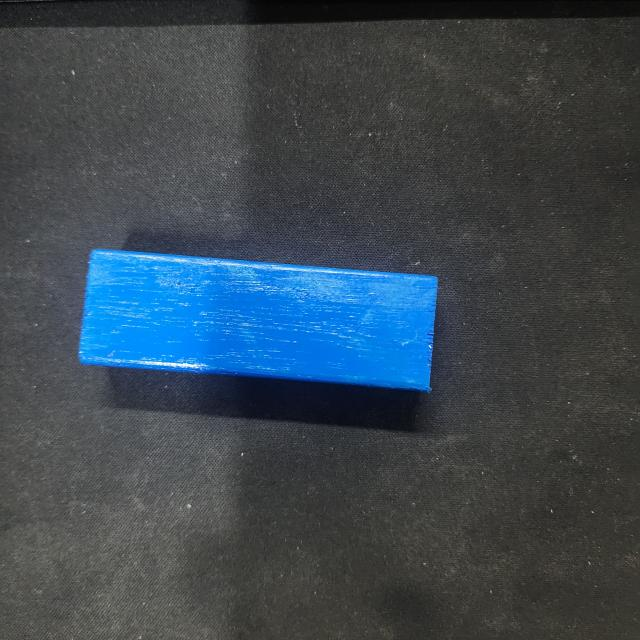blue: (82, 249, 437, 392)
